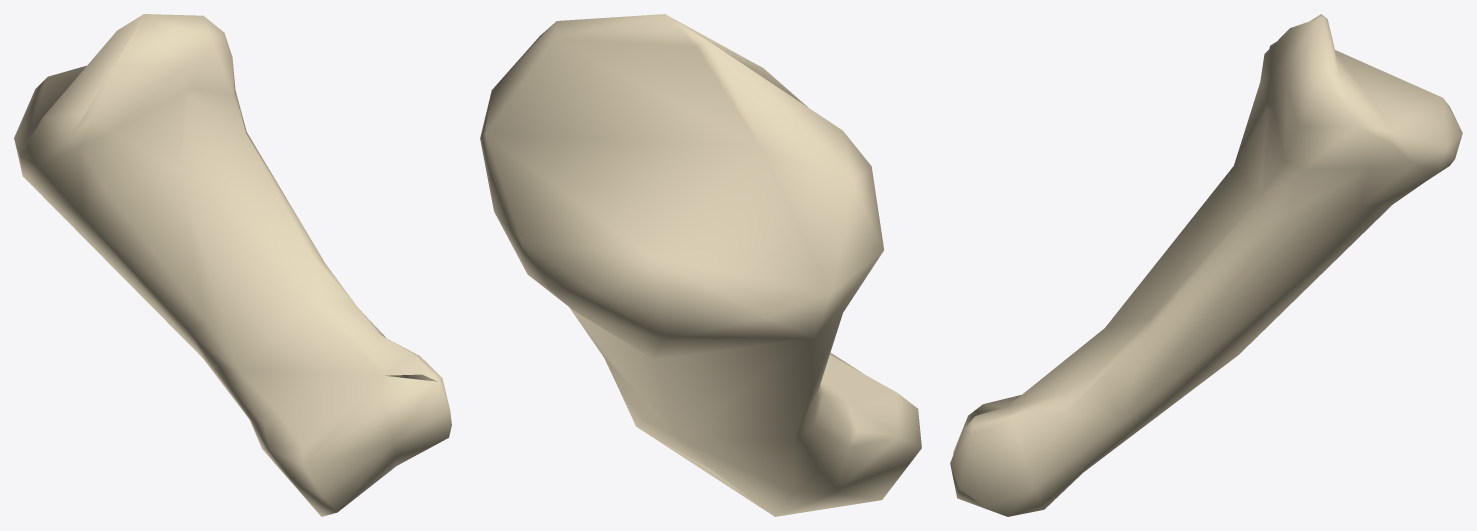
The model's file is esqueleto-middle-phalanx-of-second-finger-of-hand-l.glb.
The picture shows the model from 3 angles, left to right: view 1: azimuth 30°, elevation 25°; view 2: azimuth 150°, elevation 25°; view 3: azimuth 270°, elevation 25°; orthographic projection. The views are drawn at different scales.
Parts seen in each view (by area): view 1: Middle phalanx of second finger of hand.l; view 2: Middle phalanx of second finger of hand.l; view 3: Middle phalanx of second finger of hand.l.
Boxes of the visible parts, x1,y1,x2,y2 form: Middle phalanx of second finger of hand.l: (14,14,451,516); Middle phalanx of second finger of hand.l: (480,14,921,516); Middle phalanx of second finger of hand.l: (950,14,1462,516).
Size of the model in its own units: 0.0151 by 0.0213 by 0.0215.
